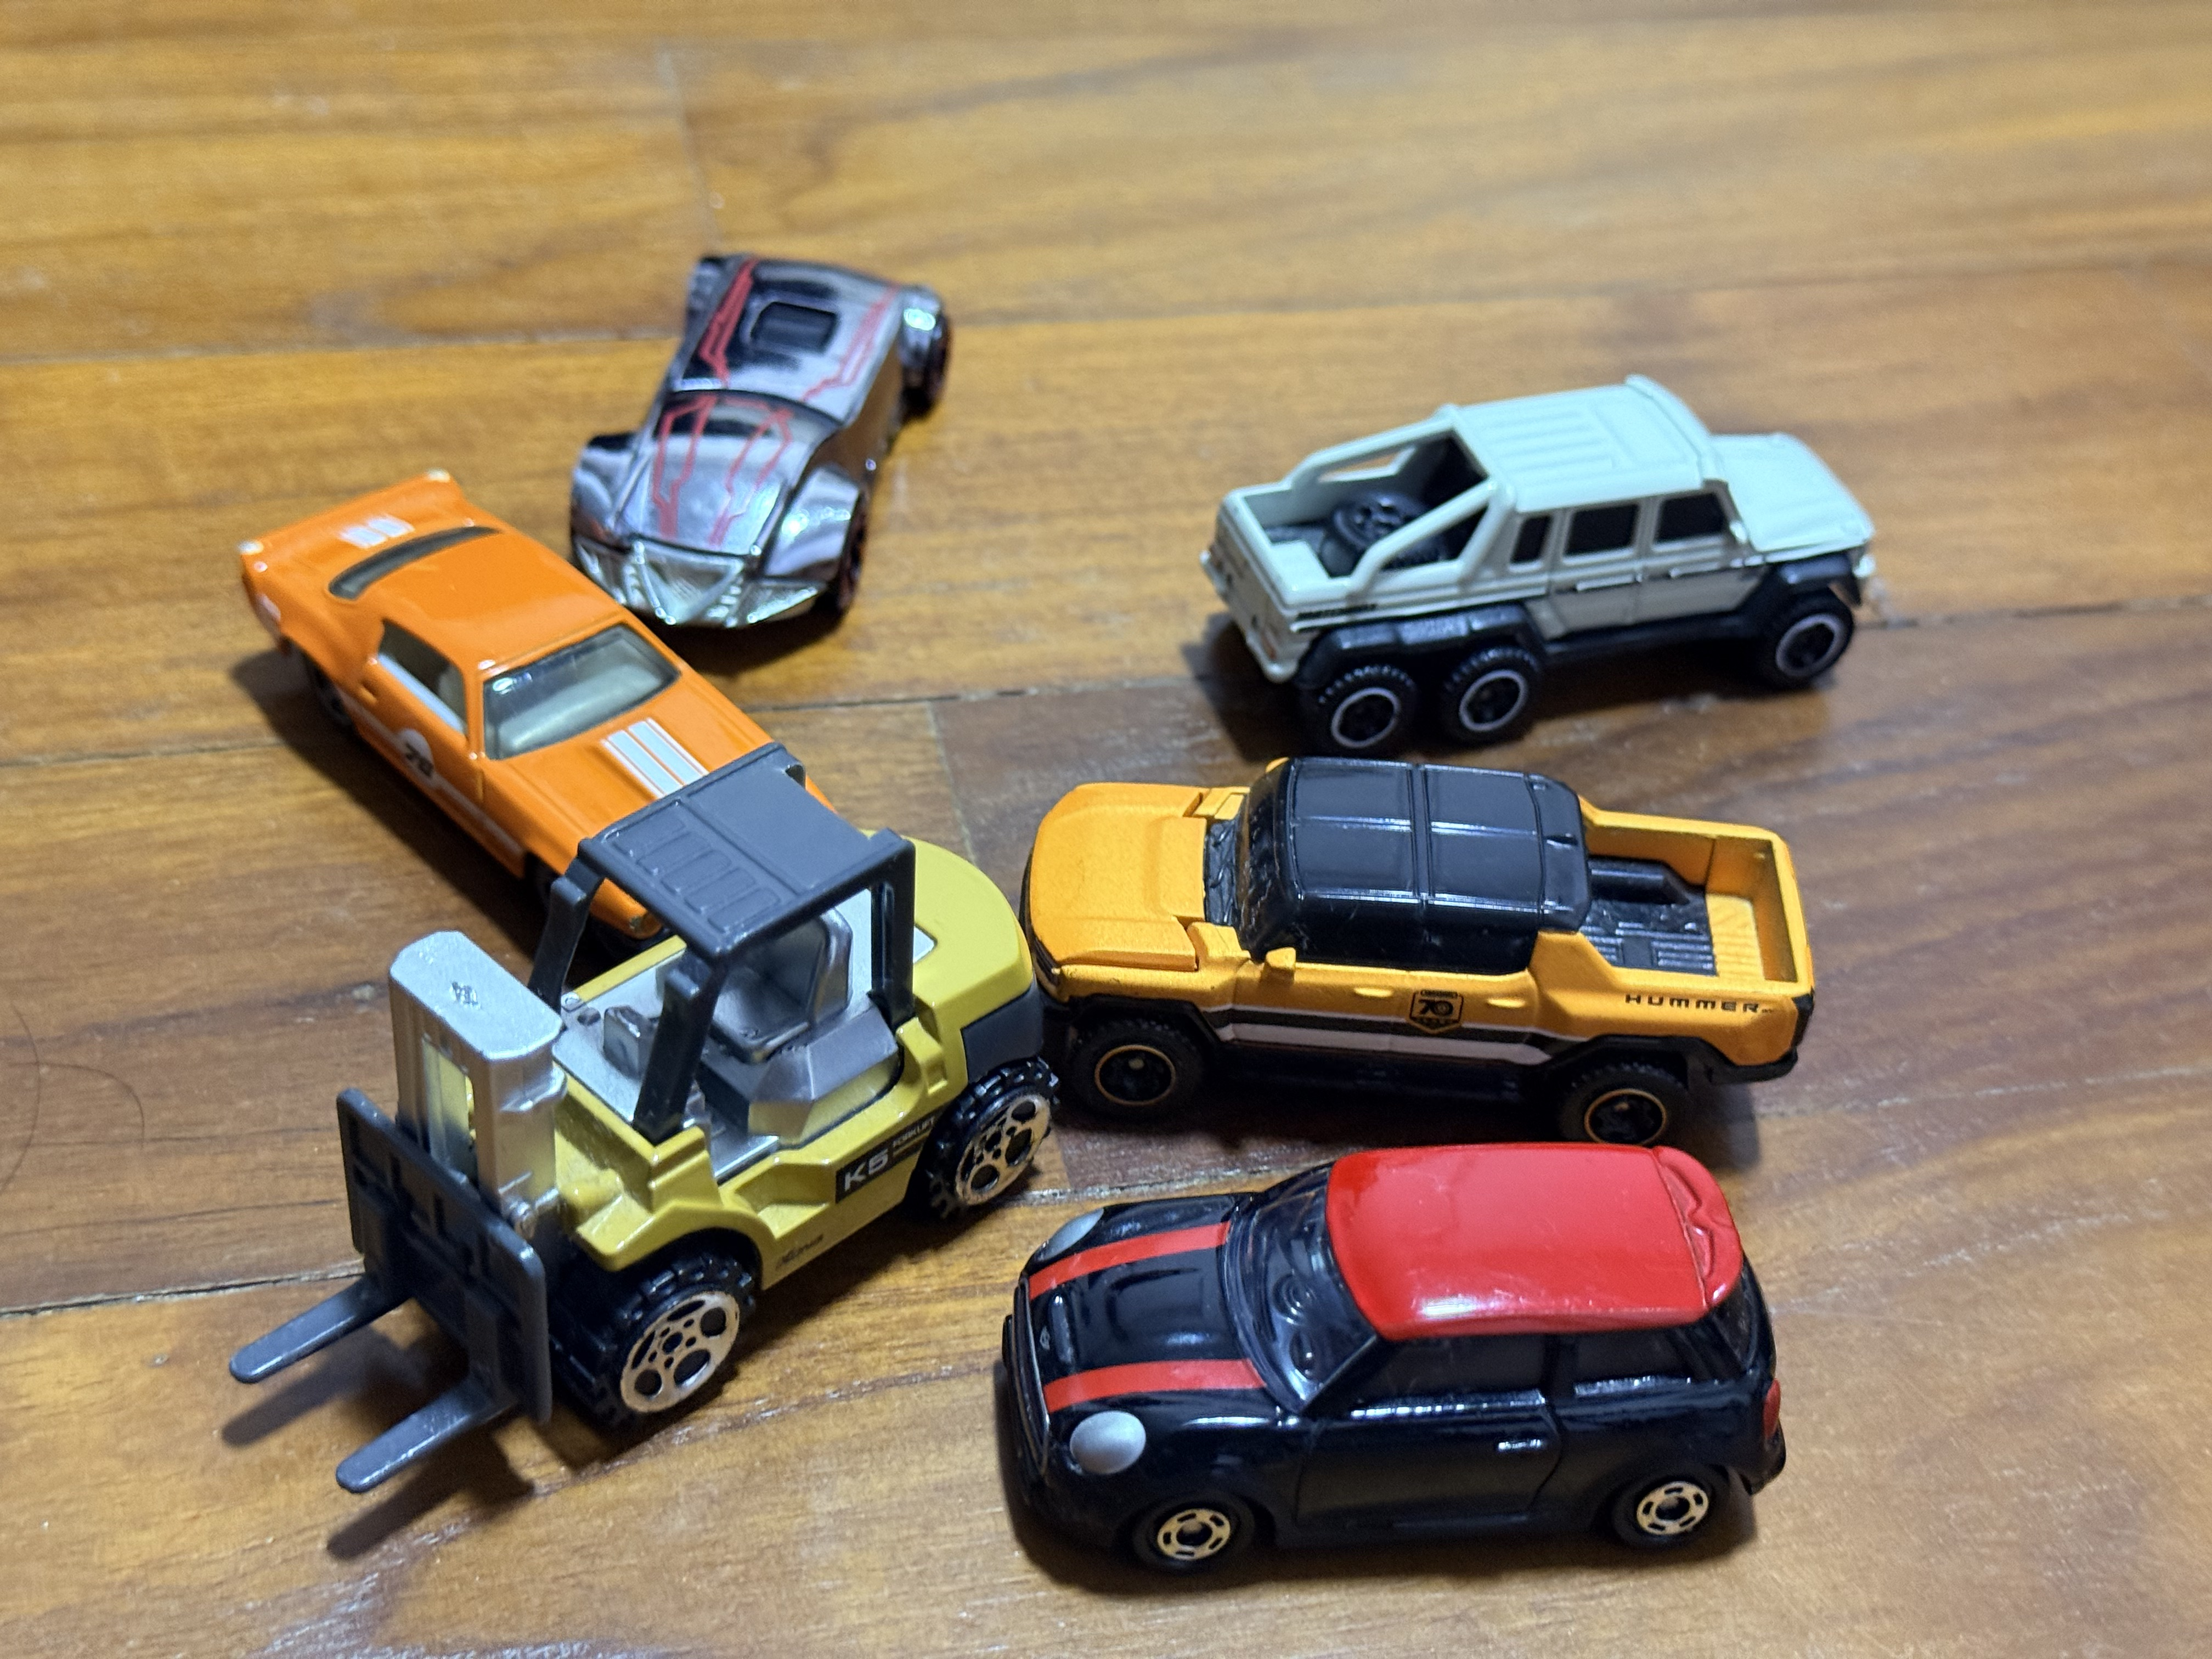camaro_rs: (237, 467, 850, 946)
dc_comics: (564, 242, 956, 634)
forklift: (226, 741, 1062, 1495)
gmc_hummer: (1021, 753, 1818, 1152)
mercedes_benz: (1198, 366, 1890, 753)
mini_cooper: (995, 1134, 1789, 1588)
